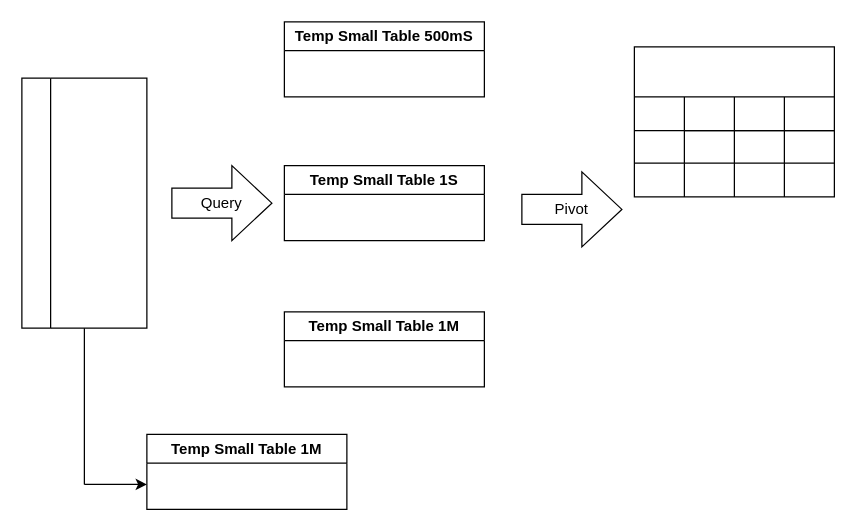
Some shapes in this 856 by 531 pixel diagram are drawn without their labels. The shapes that lost their labels are listed below. From the top down, each one's centre as x and y in pixels, then its label:
pixel 733 121: Pivoted
pixel 84 202: Long Table
